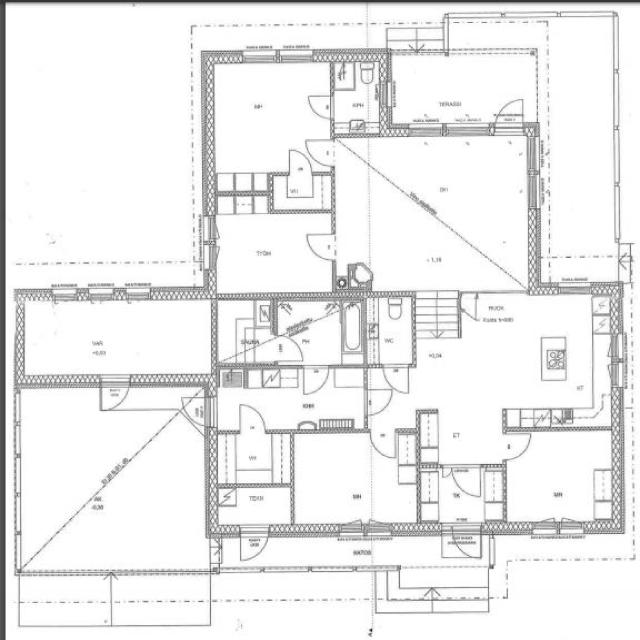door: (214, 427, 290, 487), (305, 105, 336, 167), (493, 94, 526, 136), (448, 464, 483, 501), (98, 375, 132, 413), (236, 401, 271, 437), (375, 373, 410, 408), (238, 526, 270, 564), (302, 231, 338, 263), (300, 362, 332, 397), (450, 524, 481, 560), (501, 430, 534, 462), (381, 362, 412, 396), (407, 110, 444, 138), (304, 137, 335, 169), (363, 387, 395, 417), (369, 428, 398, 461), (305, 92, 336, 121), (276, 335, 306, 364), (286, 147, 314, 177), (97, 566, 112, 582)
window: (607, 331, 629, 393), (524, 160, 543, 213), (523, 131, 542, 176), (443, 122, 493, 138), (556, 278, 592, 300), (475, 286, 525, 300), (263, 563, 309, 578), (557, 518, 588, 540), (277, 49, 315, 65), (406, 123, 444, 139), (12, 492, 26, 535), (241, 49, 279, 64), (311, 564, 355, 576), (11, 421, 25, 457), (12, 392, 23, 426)
zone: (209, 61, 333, 178), (504, 429, 617, 531), (211, 213, 335, 298), (292, 432, 376, 528), (214, 432, 292, 488), (275, 301, 344, 363), (212, 484, 294, 530), (215, 298, 269, 363), (365, 297, 414, 367), (332, 82, 388, 134), (271, 174, 334, 214)
